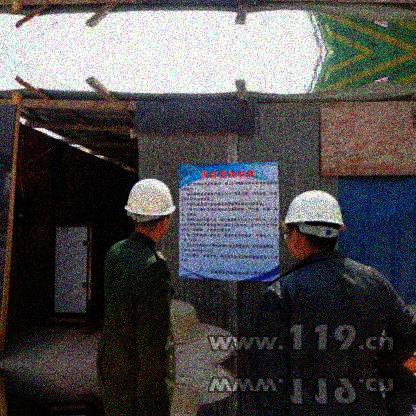helmet: (281, 190, 346, 266), (123, 178, 178, 238)
